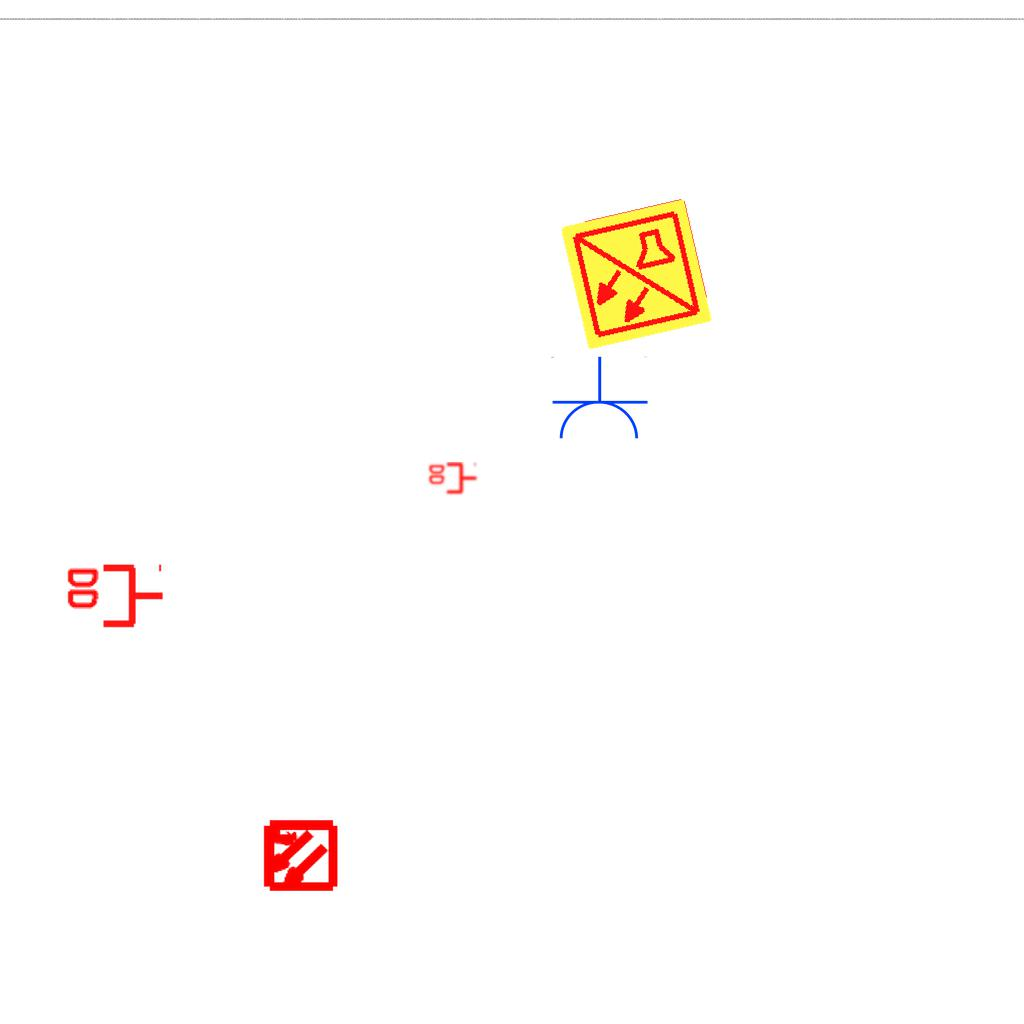Datenanschluss_zweifach: (63, 563, 166, 632), (427, 462, 478, 496)
OKW_Multisensormelder_(Kombination_optischer_Rauch-Kahlenmonoxid_Waerme-Melder): (556, 194, 716, 354)
OT_Multisensormelder_(Kombination_RMO_WMD): (242, 799, 355, 912)
Schukosteckdose_einfach: (549, 356, 649, 443)
